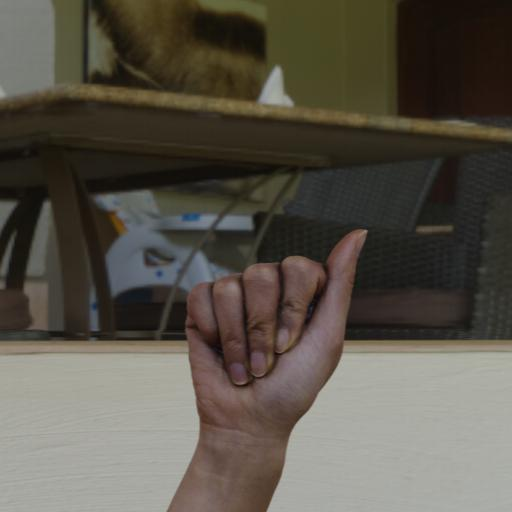A: (182, 219, 370, 433)
